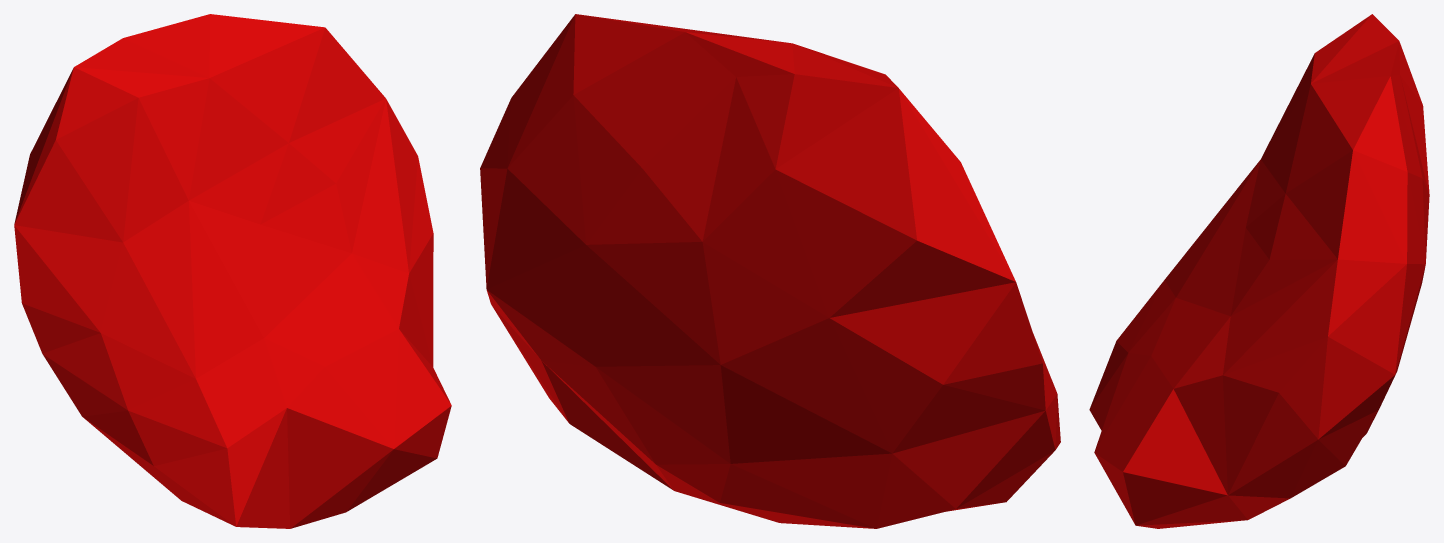
The model's file is 193-IAM-interanteromedial thalamic nucleus-('1.0000', '0.0000', '0.0000').obj.
3 renders of one model, left to right at view 1: azimuth 30°, elevation 25°; view 2: azimuth 150°, elevation 25°; view 3: azimuth 270°, elevation 25°, orthographic. The views are drawn at different scales.
Bounding box in the file's own units: 19.93 × 19.66 × 14.06.
